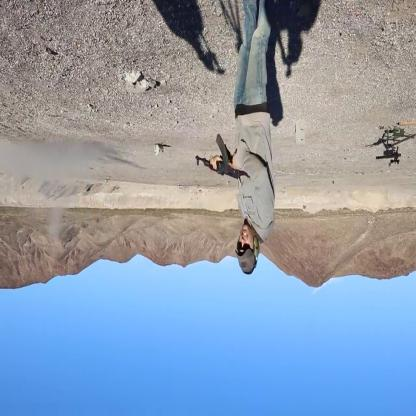long weapon: (190, 132, 254, 190), (368, 126, 405, 183)
